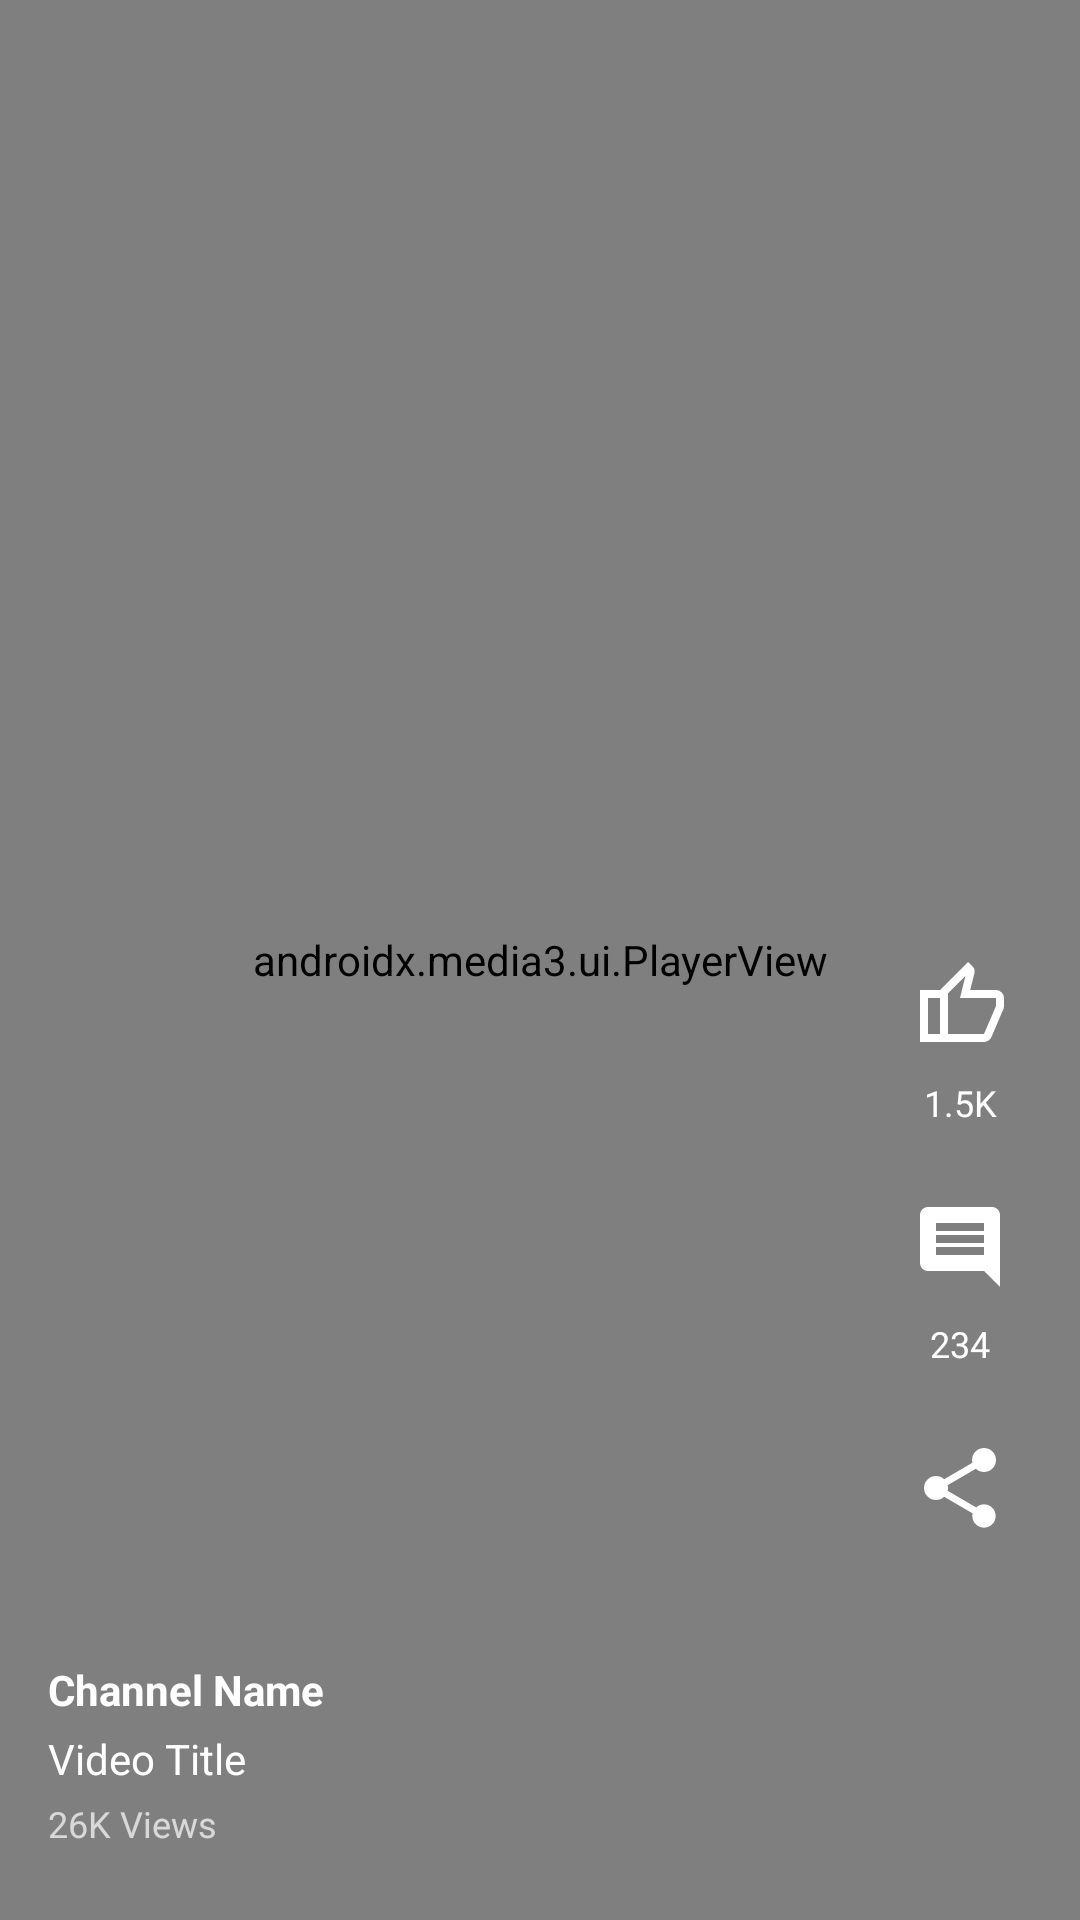

Screen size 1080 × 1920. Icon name, then its box in pixels as (x1, y1, x2, y2):
Comment: (920, 1207, 1000, 1287)
Like: (920, 962, 1004, 1042)
share: (924, 1448, 996, 1528)
